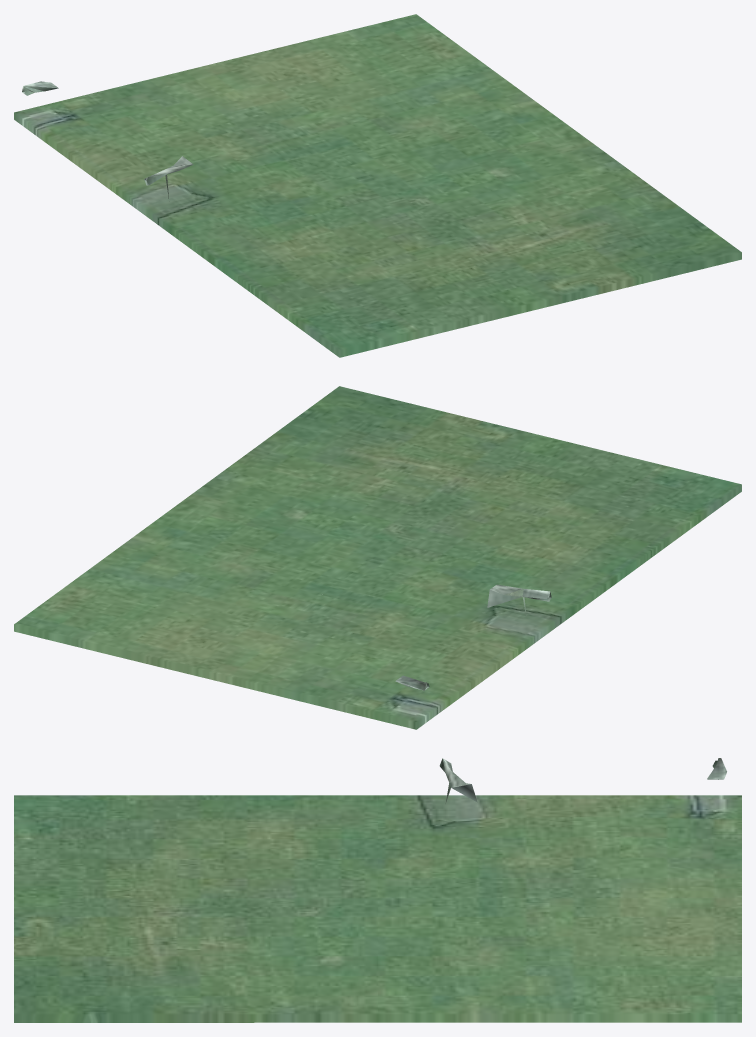
The picture shows the model from 3 angles, top to bottom: view 1: azimuth 30°, elevation 25°; view 2: azimuth 150°, elevation 25°; view 3: azimuth 270°, elevation 25°; orthographic projection. The views are drawn at different scales.
Visible parts, largest first — view 1: 30436272704370436632_0; view 2: 30436272704370436632_0; view 3: 30436272704370436632_0.
Boxes of the visible parts, box(x1,y1,x2,y2) form: 30436272704370436632_0: box(14, 14, 741, 357); 30436272704370436632_0: box(14, 386, 741, 729); 30436272704370436632_0: box(14, 758, 741, 1022).
Bounding box in the file's own units: 27.32 × 2.62 × 38.26.
1 material, 1 textured.
